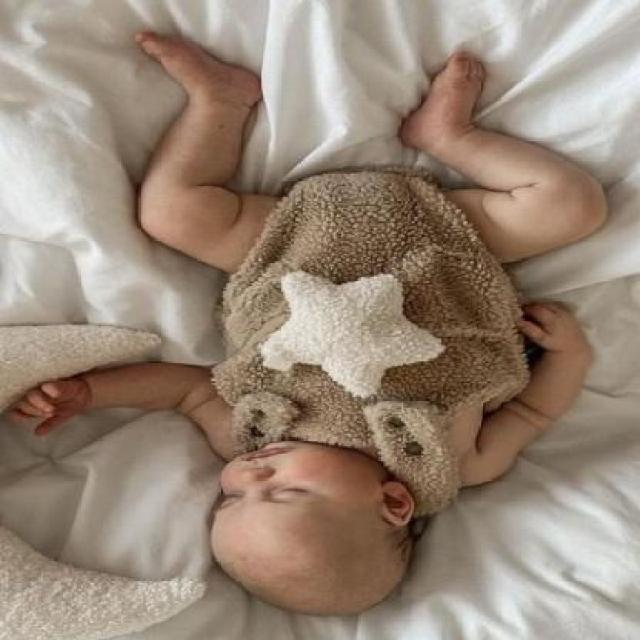baby: (6, 31, 609, 617)
